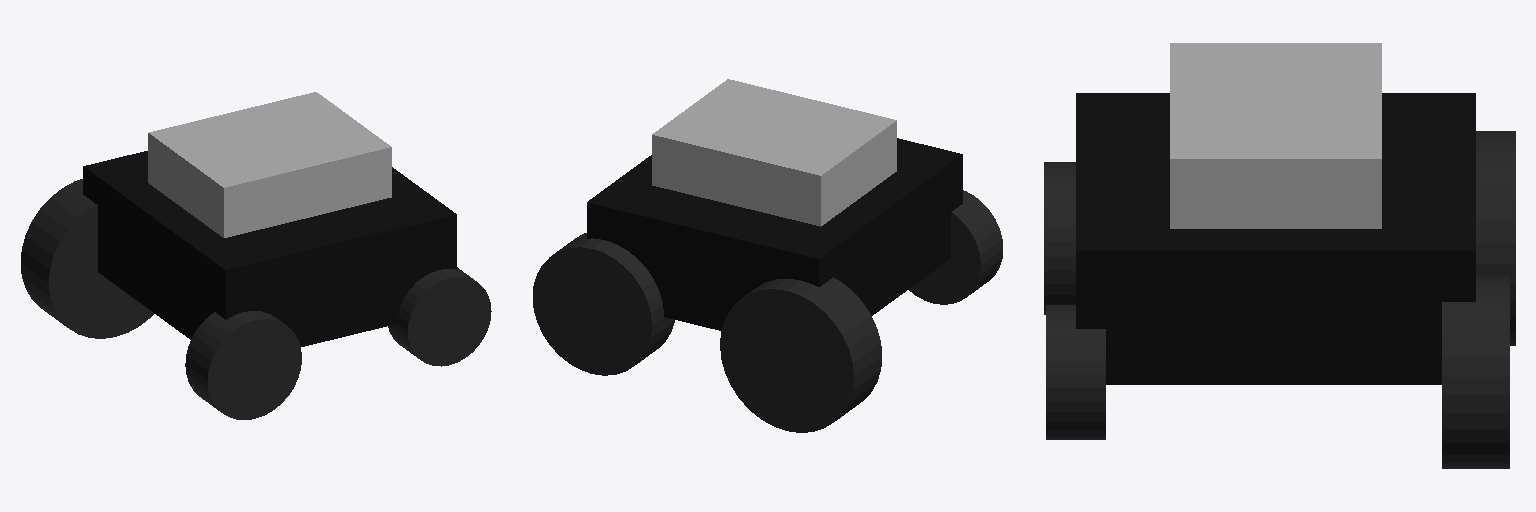
The robot description file, URDF, robot "evolved_robot":
<?xml version="1.0"?>
<robot name="evolved_robot">
  <material name="metal">
    <color rgba="0.7 0.7 0.7 1.0"/>
  </material>
  <material name="plastic">
    <color rgba="0.3 0.3 0.9 1.0"/>
  </material>
  <material name="rubber">
    <color rgba="0.1 0.1 0.1 1.0"/>
  </material>
  <material name="red">
    <color rgba="1.0 0.0 0.0 1.0"/>
  </material>
  <material name="wheel_material">
    <color rgba="0.2 0.2 0.2 1.0"/>
  </material>
  <link name="base_link">
    <visual>
      <geometry><box size="0.2593557612550042 0.27719624380797636 0.102205314231111"/></geometry>
      <material name="rubber"/>
    </visual>
    <collision>
      <geometry><box size="0.2593557612550042 0.27719624380797636 0.102205314231111"/></geometry>
    </collision>
    <inertial>
      <mass value="5.0"/>
      <inertia ixx="0.07273640319860934" ixy="0" ixz="0" 
               iyy="0.0647594476277024" iyz="0" 
               izz="0.12008597373117817"/>
    </inertial>
  </link>
  <link name="link1">
    <visual>
      <geometry>
        <cylinder radius="0.06670471469110492" length="0.04704004024589811"/>
      </geometry>
      <material name="wheel_material"/>
    </visual>
    <collision>
      <geometry>
        <cylinder radius="0.06670471469110492" length="0.04704004024589811"/>
      </geometry>
    </collision>
    <inertial>
      <mass value="1.0"/>
      <inertia ixx="0.0012967768560334034" ixy="0" ixz="0" 
               iyy="0.0012967768560334034" iyz="0" 
               izz="0.002224759481010854"/>
    </inertial>
  </link>
  <joint name="joint1" type="continuous">
    <parent link="base_link"/>
    <child link="link1"/>
    <origin xyz="0.1096778806275021 0.13859812190398818 -0.0511026571155555" rpy="1.5708 0 0"/>
    <axis xyz="0 0 1"/>
    <dynamics damping="0.9212135507331041" friction="0.1"/>
  </joint>
  <link name="link2">
    <visual>
      <geometry>
        <cylinder radius="0.04704082430625187" length="0.04131608912192816"/>
      </geometry>
      <material name="wheel_material"/>
    </visual>
    <collision>
      <geometry>
        <cylinder radius="0.04704082430625187" length="0.04131608912192816"/>
      </geometry>
    </collision>
    <inertial>
      <mass value="1.0"/>
      <inertia ixx="0.0006954613895471735" ixy="0" ixz="0" 
               iyy="0.0006954613895471735" iyz="0" 
               izz="0.0011064195757058285"/>
    </inertial>
  </link>
  <joint name="joint2" type="continuous">
    <parent link="base_link"/>
    <child link="link2"/>
    <origin xyz="0.1096778806275021 -0.13859812190398818 -0.0511026571155555" rpy="1.5708 0 0"/>
    <axis xyz="0 0 1"/>
    <dynamics damping="0.9364502395336347" friction="0.1"/>
  </joint>
  <link name="link3">
    <visual>
      <geometry>
        <cylinder radius="0.07479972298396817" length="0.054944351765301117"/>
      </geometry>
      <material name="wheel_material"/>
    </visual>
    <collision>
      <geometry>
        <cylinder radius="0.07479972298396817" length="0.054944351765301117"/>
      </geometry>
    </collision>
    <inertial>
      <mass value="1.0"/>
      <inertia ixx="0.0016503231221953562" ixy="0" ixz="0" 
               iyy="0.0016503231221953562" iyz="0" 
               izz="0.002797499279239188"/>
    </inertial>
  </link>
  <joint name="joint3" type="continuous">
    <parent link="base_link"/>
    <child link="link3"/>
    <origin xyz="-0.1096778806275021 0.13859812190398818 -0.0511026571155555" rpy="1.5708 0 0"/>
    <axis xyz="0 0 1"/>
    <dynamics damping="0.388106697132232" friction="0.1"/>
  </joint>
  <link name="link4">
    <visual>
      <geometry><box size="0.18874158753518278 0.14711196033763932 0.10818329147535709"/></geometry>
      <material name="metal"/>
    </visual>
    <collision>
      <geometry><box size="0.18874158753518278 0.14711196033763932 0.10818329147535709"/></geometry>
    </collision>
    <inertial>
      <mass value="0.5"/>
      <inertia ixx="0.002778796119068769" ixy="0" ixz="0" 
               iyy="0.003943917618311928" iyz="0" 
               izz="0.004772109644973686"/>
    </inertial>
  </link>
  <joint name="joint4" type="revolute">
    <parent link="base_link"/>
    <child link="link4"/>
    <origin xyz="0 0 0.0511026571155555" rpy="0 0 0"/>
    <axis xyz="0.44809674162798757 -0.5445914056652249 0.708963688081382"/>
    <dynamics damping="0.84989463236459" friction="0.1"/>
    <limit lower="-1.3313563404960427" upper="1.479267732639967" effort="100" velocity="100"/>
  </joint>
  <link name="link5">
    <visual>
      <geometry>
        <cylinder radius="0.05302810832666559" length="0.043531528517095755"/>
      </geometry>
      <material name="wheel_material"/>
    </visual>
    <collision>
      <geometry>
        <cylinder radius="0.05302810832666559" length="0.043531528517095755"/>
      </geometry>
    </collision>
    <inertial>
      <mass value="1.0"/>
      <inertia ixx="0.0008609112327623718" ixy="0" ixz="0" 
               iyy="0.0008609112327623718" iyz="0" 
               izz="0.0014059901363522901"/>
    </inertial>
  </link>
  <joint name="joint5" type="continuous">
    <parent link="base_link"/>
    <child link="link5"/>
    <origin xyz="-0.1096778806275021 -0.13859812190398818 -0.0511026571155555" rpy="1.5708 0 0"/>
    <axis xyz="0 0 1"/>
    <dynamics damping="0.4697744453885081" friction="0.1"/>
  </joint>
</robot>

--- Render facts (derived) ---
The picture shows the robot from 3 angles, left to right: view 1: azimuth 30°, elevation 25°; view 2: azimuth 150°, elevation 25°; view 3: azimuth 270°, elevation 25°; orthographic projection.
Model evolved_robot with 6 links and 5 joints (1 revolute, 4 continuous), rooted at base_link, posed every joint at zero.
Visible links, largest first — view 1: base_link, link4, link3, link5, link2; view 2: base_link, link4, link3, link1, link5; view 3: base_link, link4, link1, link2, link3, link5.
Link boxes in pixels (x1,y1,x2,y2): base_link: (83, 151, 456, 346); link4: (148, 92, 391, 237); link3: (21, 179, 153, 338); link5: (185, 311, 301, 419); link2: (388, 267, 491, 366); base_link: (587, 138, 962, 330); link4: (652, 79, 896, 226); link3: (720, 277, 881, 432); link1: (533, 233, 674, 375); link5: (909, 190, 1002, 304); base_link: (1076, 93, 1475, 384); link4: (1170, 43, 1381, 228); link1: (1442, 276, 1509, 468); link2: (1046, 305, 1105, 439); link3: (1476, 131, 1515, 345); link5: (1044, 162, 1075, 314).
Bounding box of the posed robot: 0.3609 × 0.3264 × 0.2311 m (x, y, z).
Geometry: primitives only (box / cylinder / sphere), no mesh files.